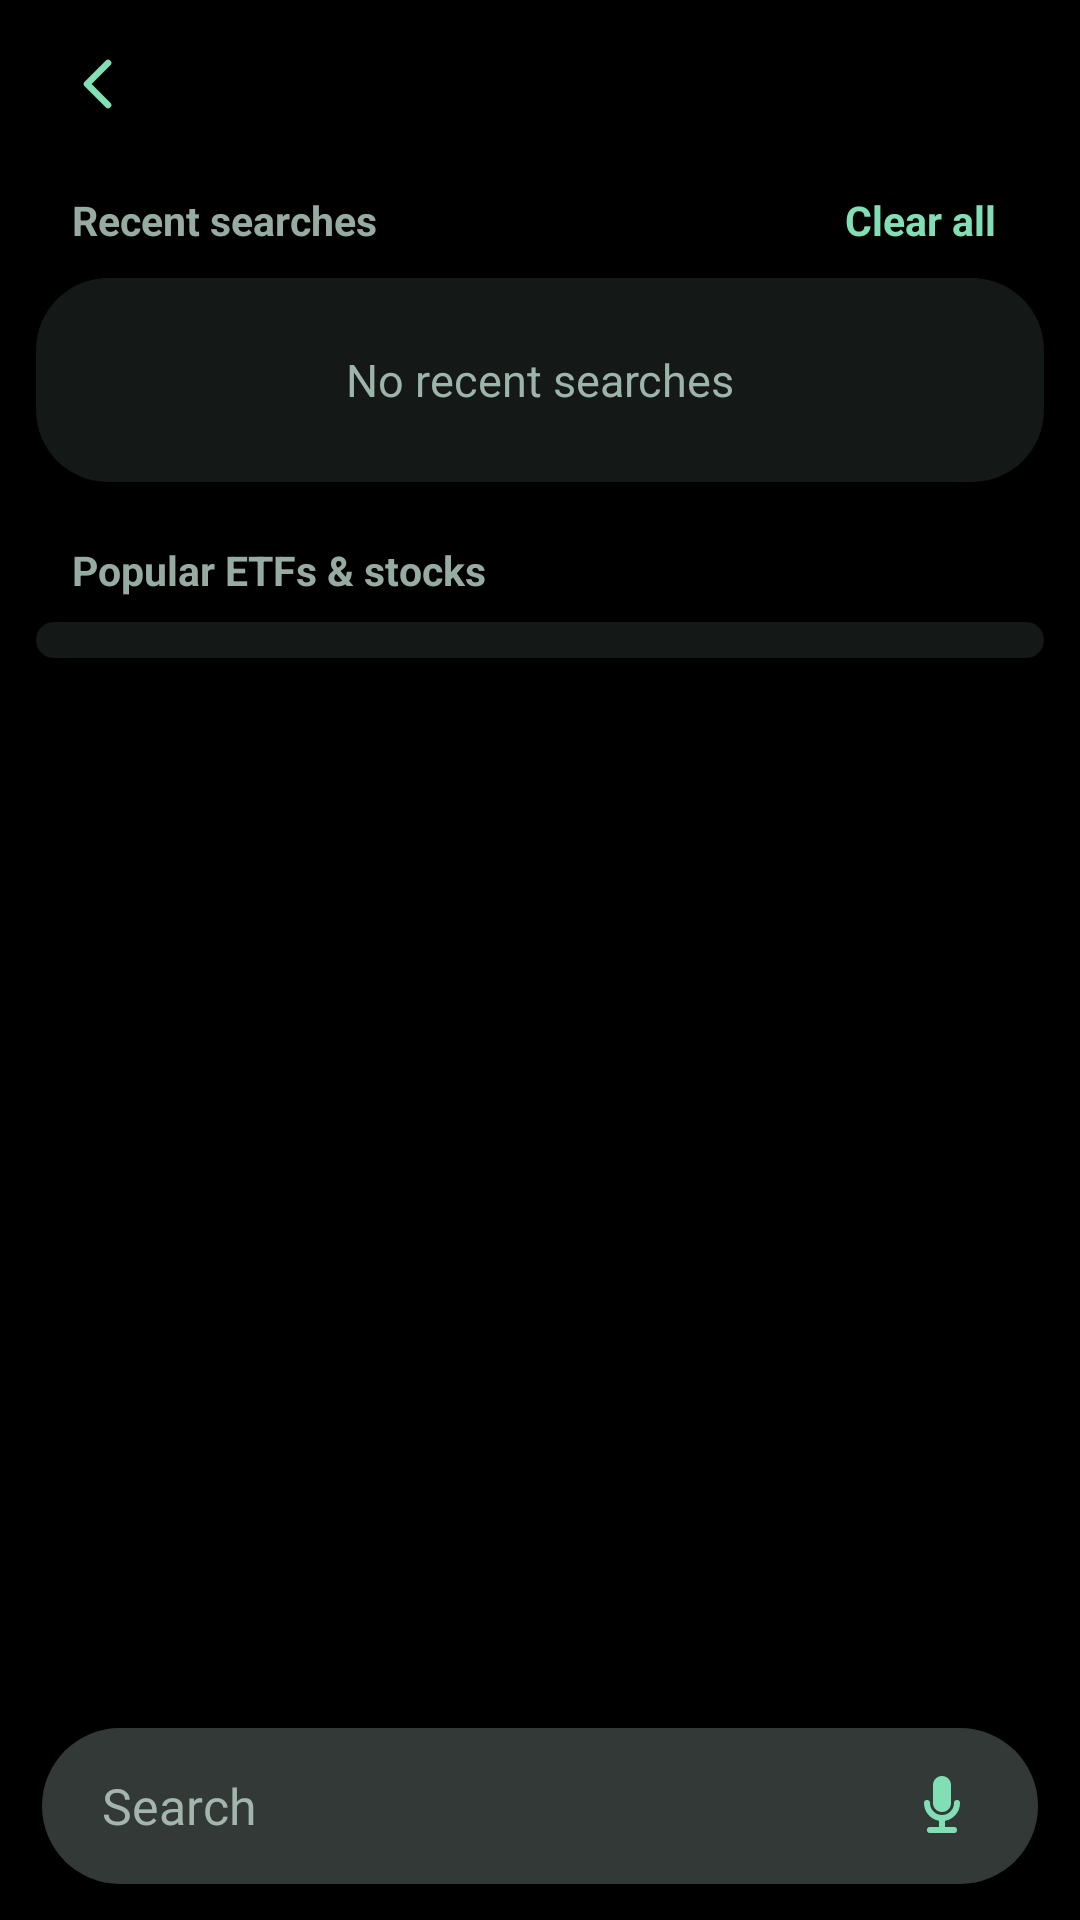

Screen size 1080w x 1920h. Icon name, then its box in pixels as box=[x1, y1, x2, y2]:
Back: box=[83, 59, 112, 109]
